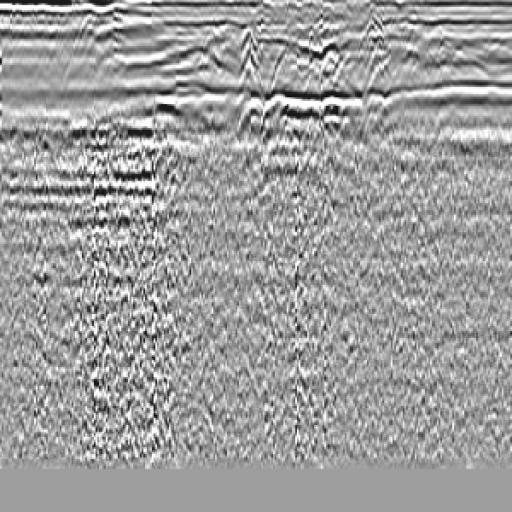non-metallic: (226, 77, 283, 251)
